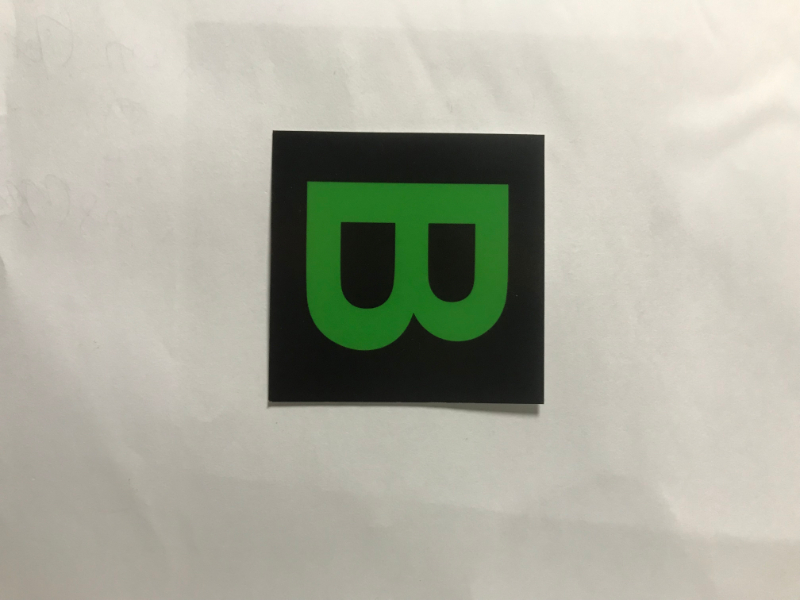B-12: (278, 135, 539, 400)
